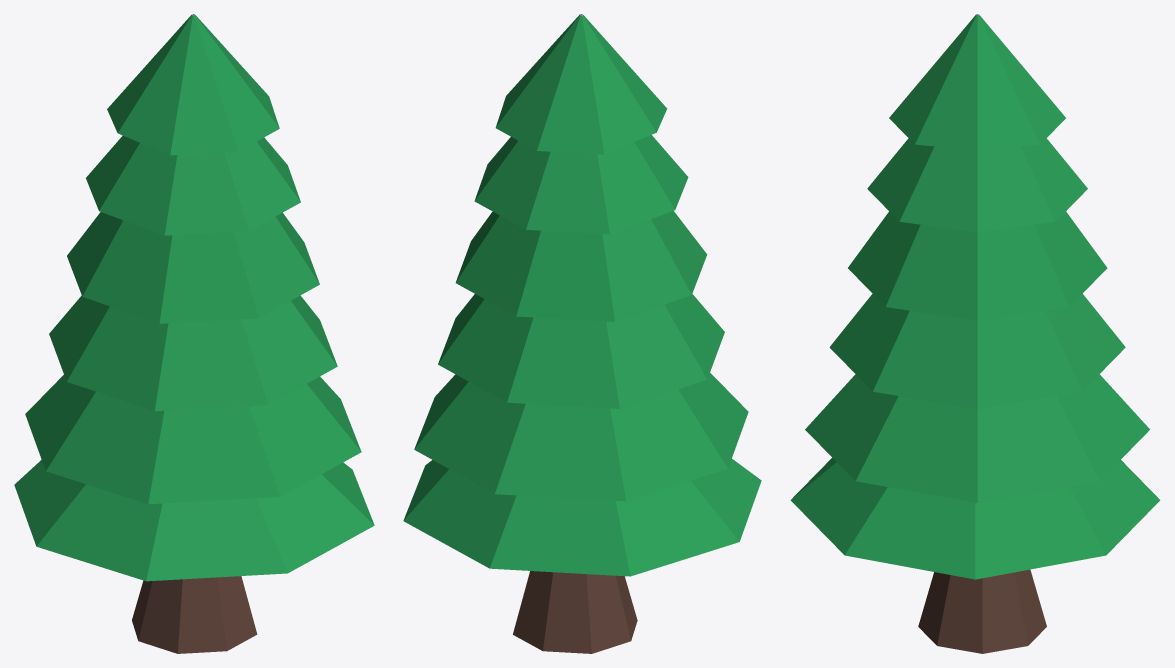
The model's file is Tree.fbx.
3 renders of one model, left to right at view 1: azimuth 30°, elevation 25°; view 2: azimuth 150°, elevation 25°; view 3: azimuth 270°, elevation 25°, orthographic.
Parts seen in each view (by area): view 1: Cylinder; view 2: Cylinder; view 3: Cylinder.
Part boxes in pixels (x1,y1,x2,y2): Cylinder: (14,14,374,653); Cylinder: (403,14,761,653); Cylinder: (790,14,1160,653).
Bounding box in the file's own units: 320 × 596 × 328.
